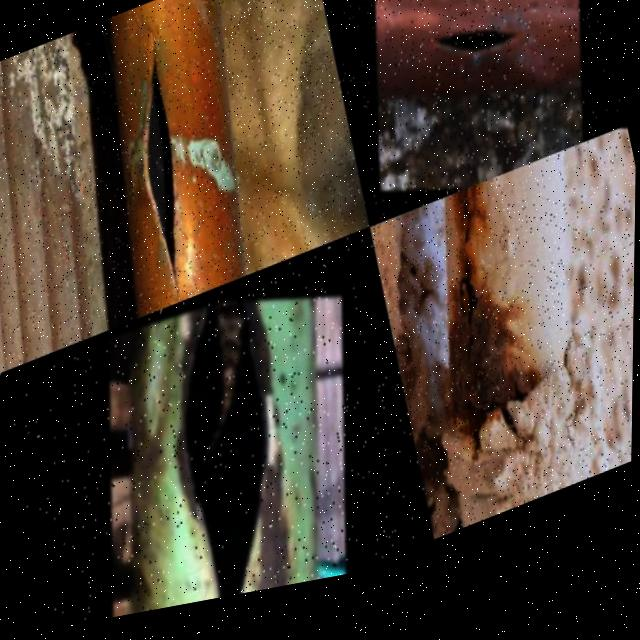crack: (444, 200, 496, 276)
hole: (446, 273, 490, 347), (456, 398, 499, 462), (501, 383, 535, 430), (493, 412, 522, 458)
rupture: (80, 14, 226, 333), (175, 313, 273, 610), (422, 14, 524, 106)
